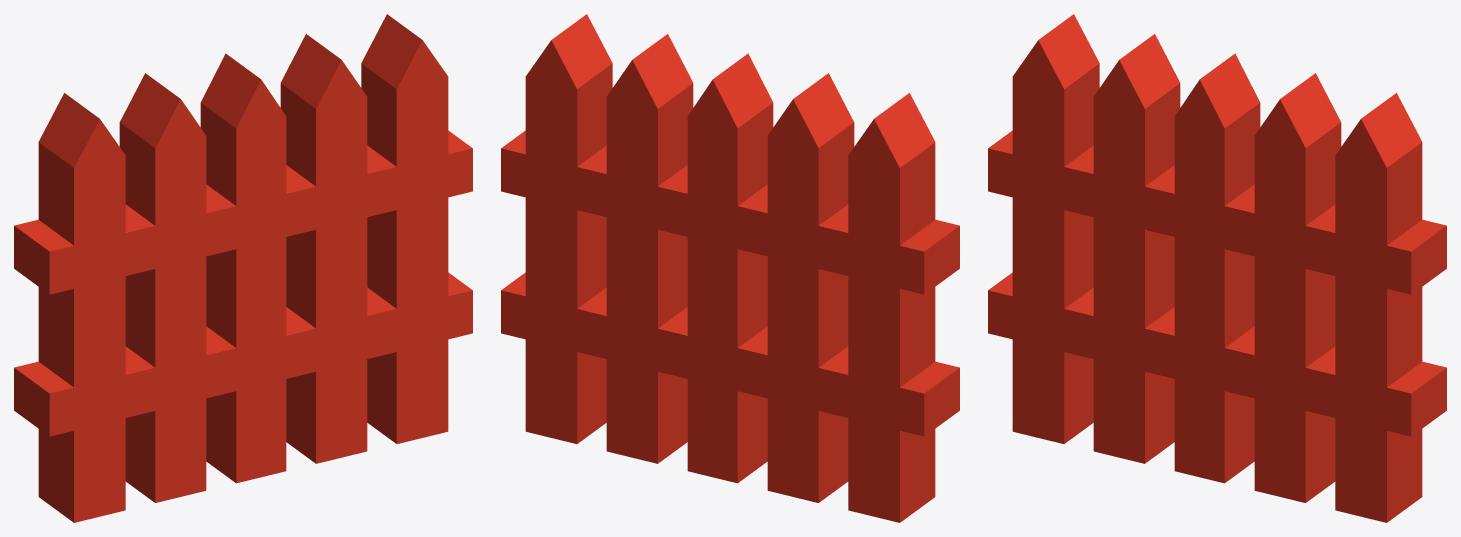
Rendered from Icon_Fence_01.fbx.
The picture shows the model from 3 angles, left to right: view 1: azimuth 30°, elevation 25°; view 2: azimuth 150°, elevation 25°; view 3: azimuth 330°, elevation 25°; orthographic projection.
Visible parts, largest first — view 1: Icon_Fence_01; view 2: Icon_Fence_01; view 3: Icon_Fence_01.
Part boxes in pixels (bbox=[...]): Icon_Fence_01: bbox=[14, 14, 472, 522]; Icon_Fence_01: bbox=[501, 14, 959, 522]; Icon_Fence_01: bbox=[988, 14, 1446, 522].
Bounding box in the file's own units: 82.83 × 74.4 × 12.06.
